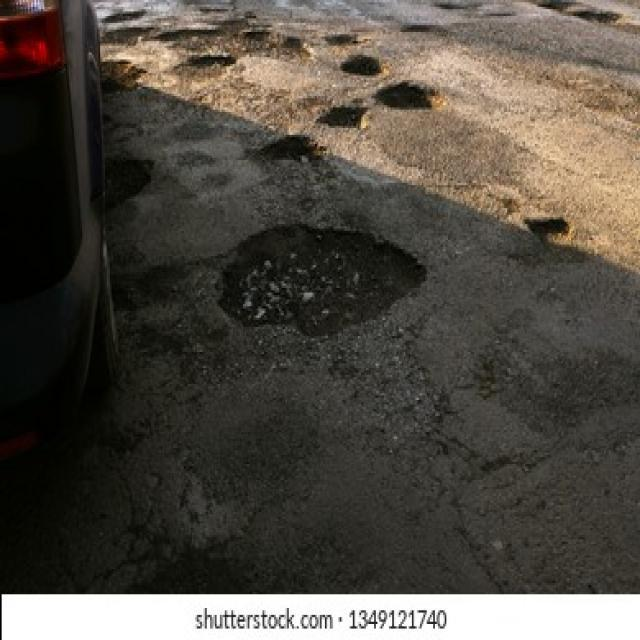Pothole: (214, 220, 428, 340), (157, 27, 316, 64), (248, 135, 328, 190), (106, 156, 154, 210), (174, 54, 236, 92), (523, 212, 576, 254), (378, 80, 443, 112), (102, 59, 146, 96), (317, 105, 371, 133), (104, 25, 150, 57), (338, 52, 382, 80), (574, 9, 624, 28), (534, 0, 588, 16), (101, 7, 148, 23), (327, 32, 372, 46)
